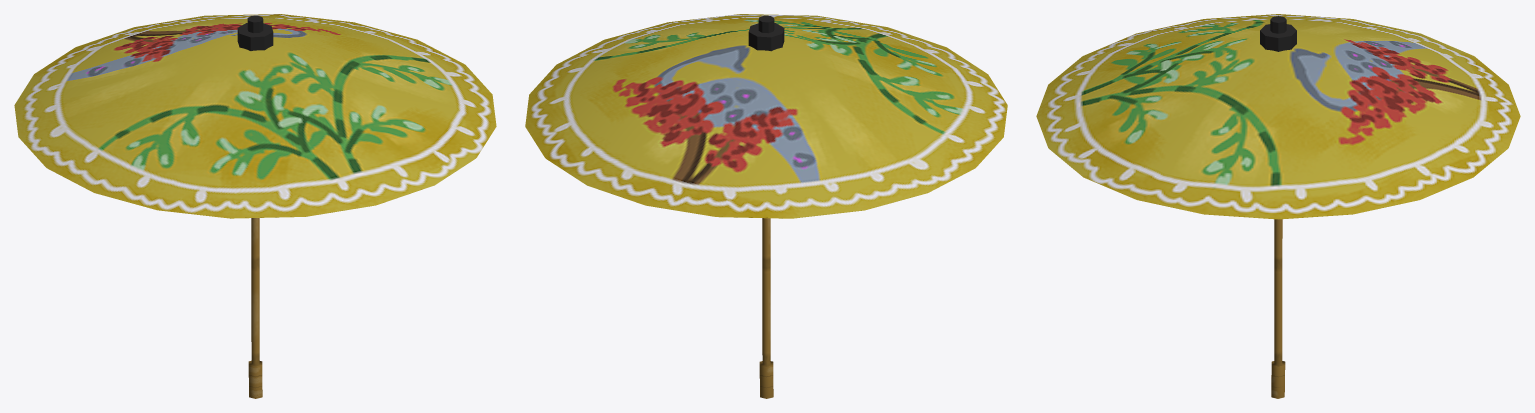
File: umbrella_D.fbx
The picture shows the model from 3 angles, left to right: view 1: azimuth 30°, elevation 25°; view 2: azimuth 150°, elevation 25°; view 3: azimuth 270°, elevation 25°; orthographic projection.
Visible parts, largest first — view 1: umbrella; view 2: umbrella; view 3: umbrella.
Boxes of the visible parts, bbox=[...] form: umbrella: bbox=[14, 14, 496, 398]; umbrella: bbox=[525, 14, 1007, 398]; umbrella: bbox=[1036, 14, 1520, 398].
Bounding box in the file's own units: 2.48 × 2.13 × 2.48.
Materials: 1 (1 with a texture image).
